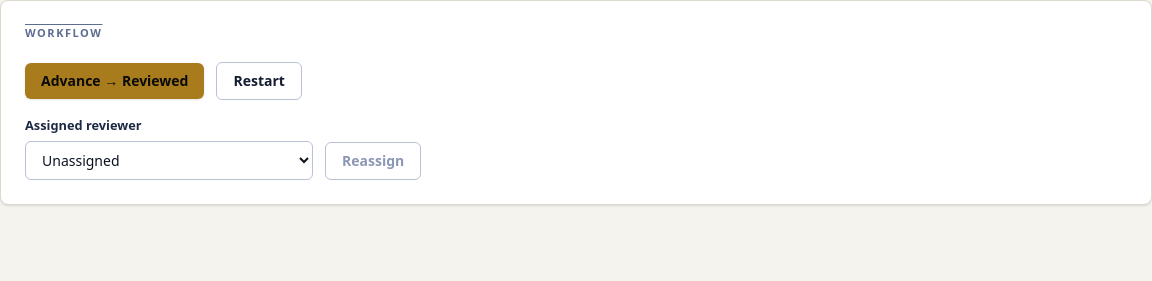
Scenario: WorkflowActions › surfaces a refused transition instead of pretending it landed
Click the button "Advance → Reviewed": coordinates (115, 80) [25, 62, 204, 98]
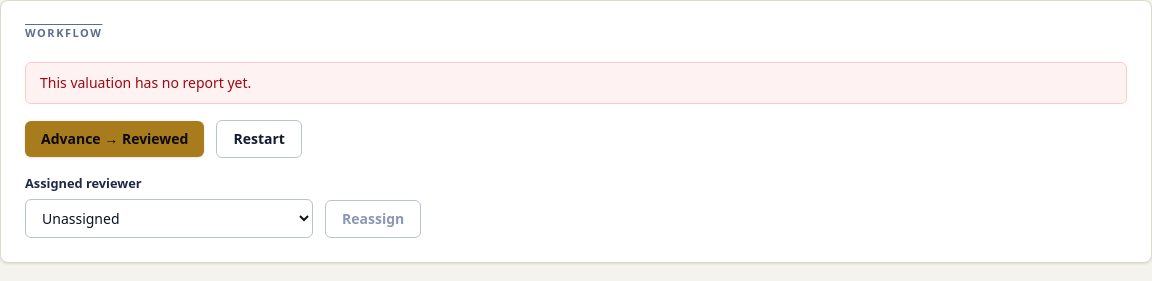
Expected: the message reads "This valuation has no report yet.", [40, 72, 251, 92]
